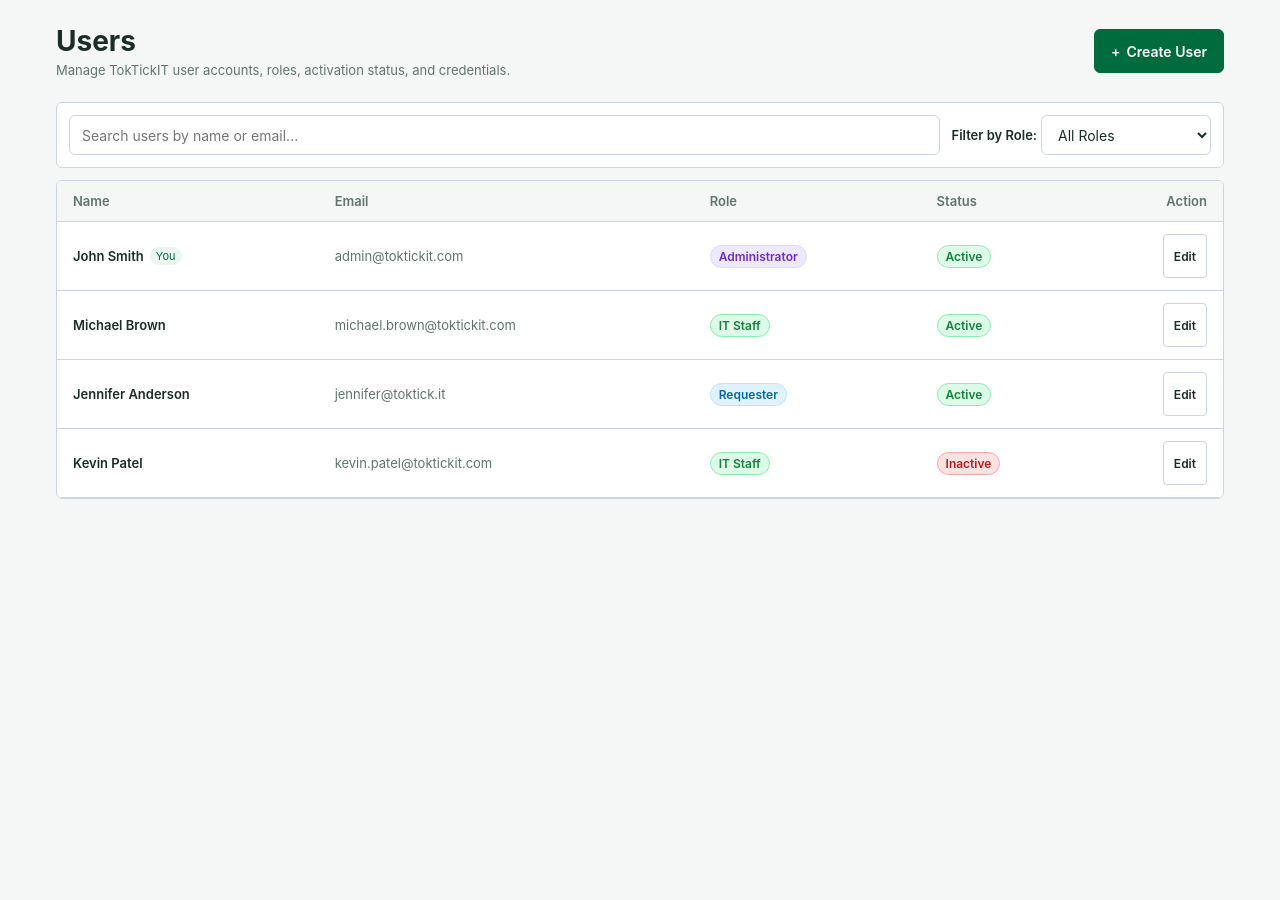
Test: UI-06 & UI-07: UserManagement Component Tests › UI-07: disables deactivation switch and button when admin edits their own account (BR-25)
expect the text "John Smith" is shown: met, box [73, 248, 144, 264]
// Click Edit on John Smith (id: 1, current logged in admin)
What coordinates should you click on to do the following:
click the button with test id "edit-user-btn-1"
I would click on:
 (1185, 256)
Its box is [1163, 234, 1207, 278].
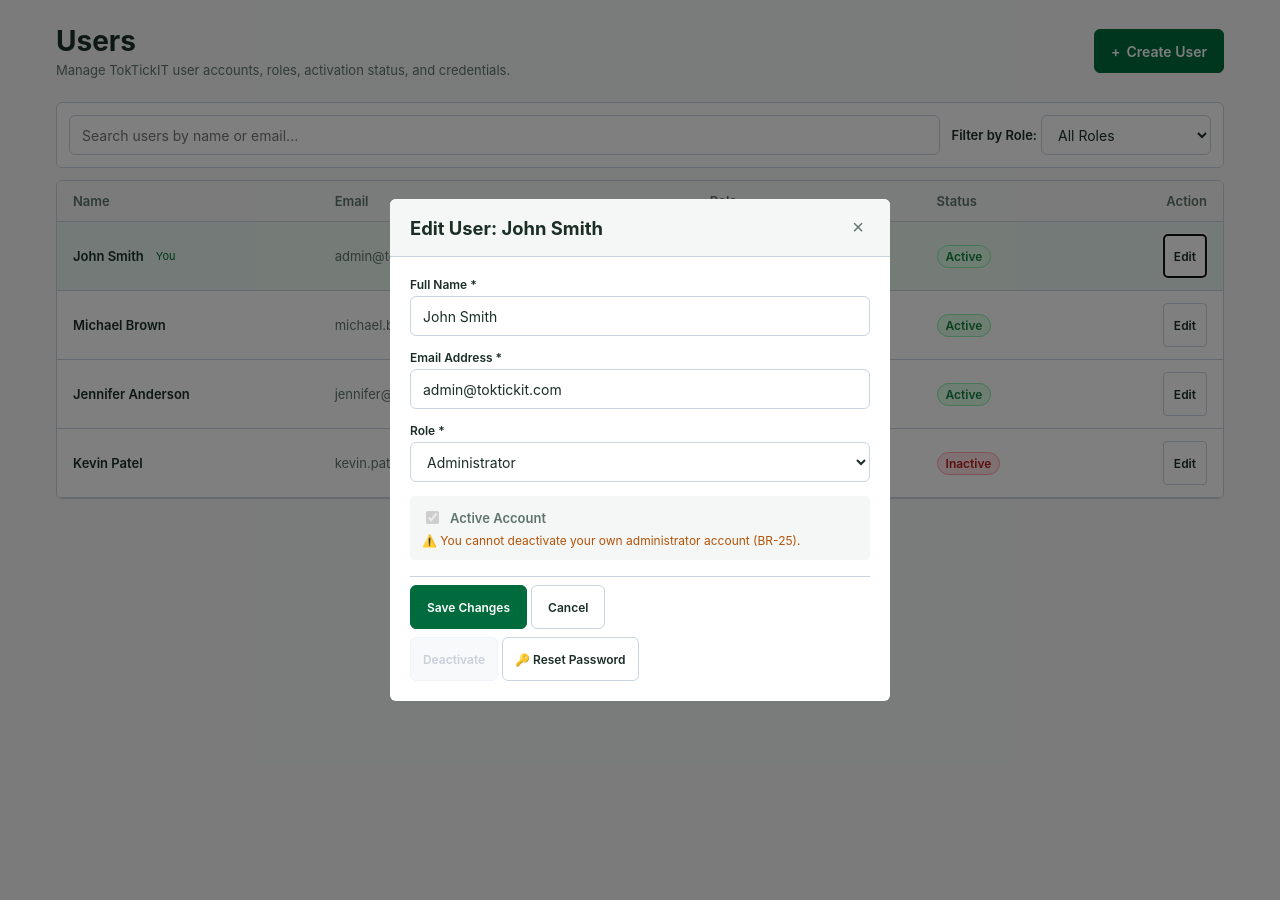
expect the element with test id "edit-user-modal" is shown: met
expect the checkbox with test id "edit-user-active" is disabled: met, box [426, 511, 439, 524]
expect the text with test id "self-deactivation-warning" is shown: met, box [422, 533, 858, 548]
